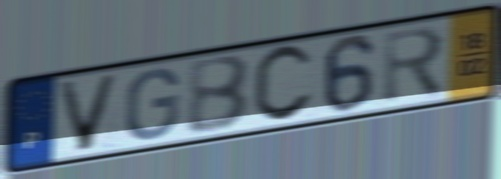6: (321, 32, 378, 116)
B: (186, 52, 253, 138)
C: (250, 42, 316, 126)
G: (122, 66, 182, 143)
R: (381, 22, 449, 108)
V: (54, 71, 123, 155)
